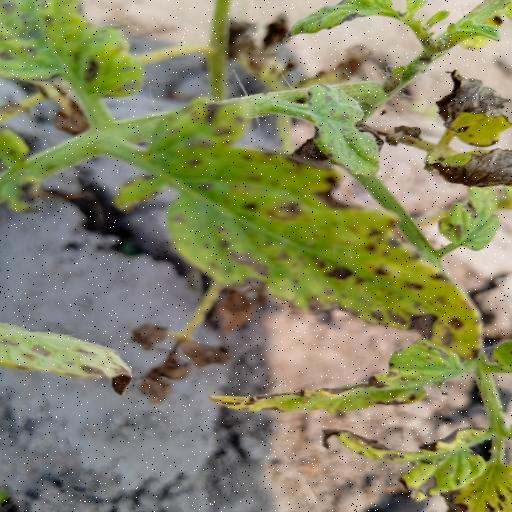Tomato_Brown_Spots: (120, 98, 480, 356)
